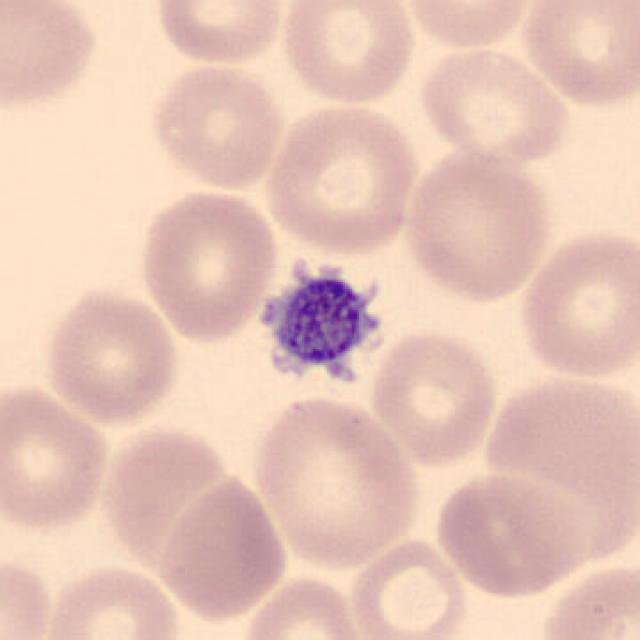Platelets: (247, 248, 395, 398)
RBC: (249, 391, 427, 573), (259, 98, 422, 255), (400, 145, 555, 305), (135, 184, 283, 346), (96, 419, 236, 576), (430, 468, 590, 600), (39, 282, 183, 427), (155, 472, 293, 622), (412, 42, 572, 168), (514, 224, 638, 384), (478, 367, 635, 490), (366, 326, 500, 469), (146, 60, 288, 192), (0, 379, 114, 536), (278, 0, 420, 108), (516, 0, 638, 111), (347, 536, 471, 640), (0, 0, 103, 116), (39, 560, 185, 640), (151, 0, 290, 67), (240, 571, 366, 640), (534, 559, 638, 640), (398, 0, 539, 51), (0, 552, 57, 640)
